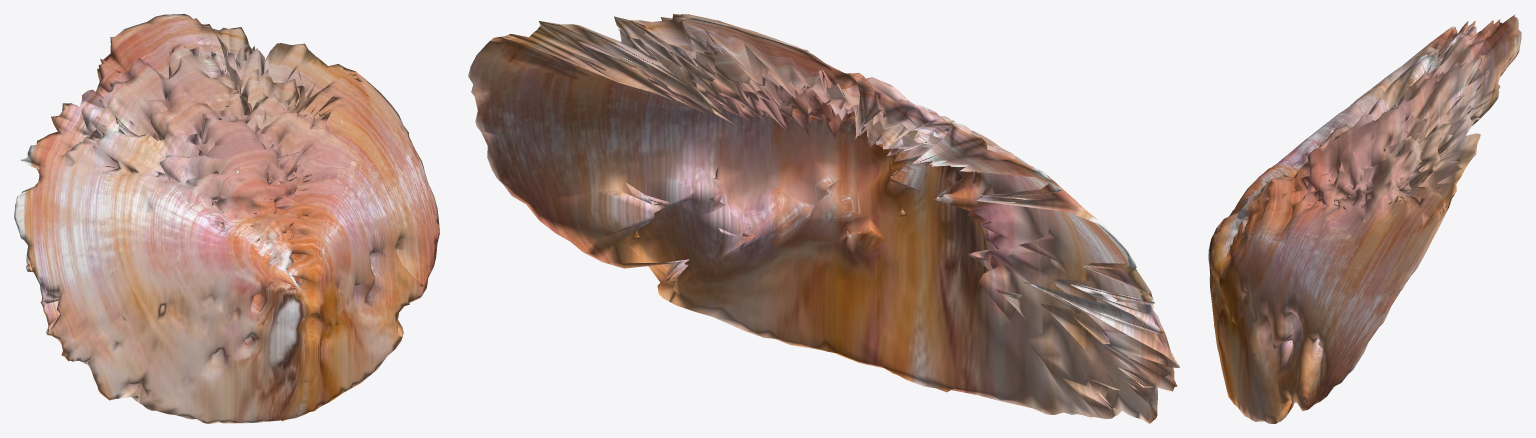
Rendered from fish_tellin.glb.
3 renders of one model, left to right at view 1: azimuth 30°, elevation 25°; view 2: azimuth 150°, elevation 25°; view 3: azimuth 270°, elevation 25°, orthographic. The views are drawn at different scales.
Parts seen in each view (by area): view 1: orient; view 2: orient; view 3: orient.
Part boxes in pixels (box(x1,y1,x2,y2)): orient: box(14, 14, 439, 423); orient: box(468, 14, 1179, 423); orient: box(1208, 14, 1521, 423).
Size of the model in its own units: 1.78 by 1.32 by 1.07.
Materials: 1 (1 with a texture image).
